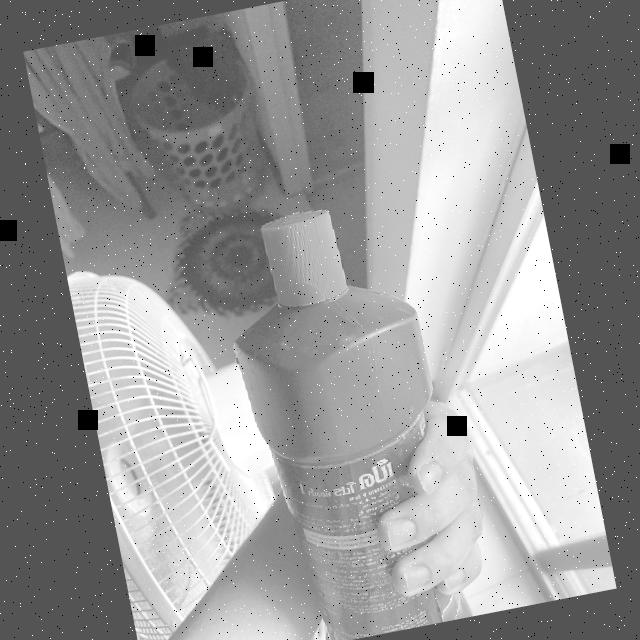toilet_cleaner: (201, 185, 479, 640)
